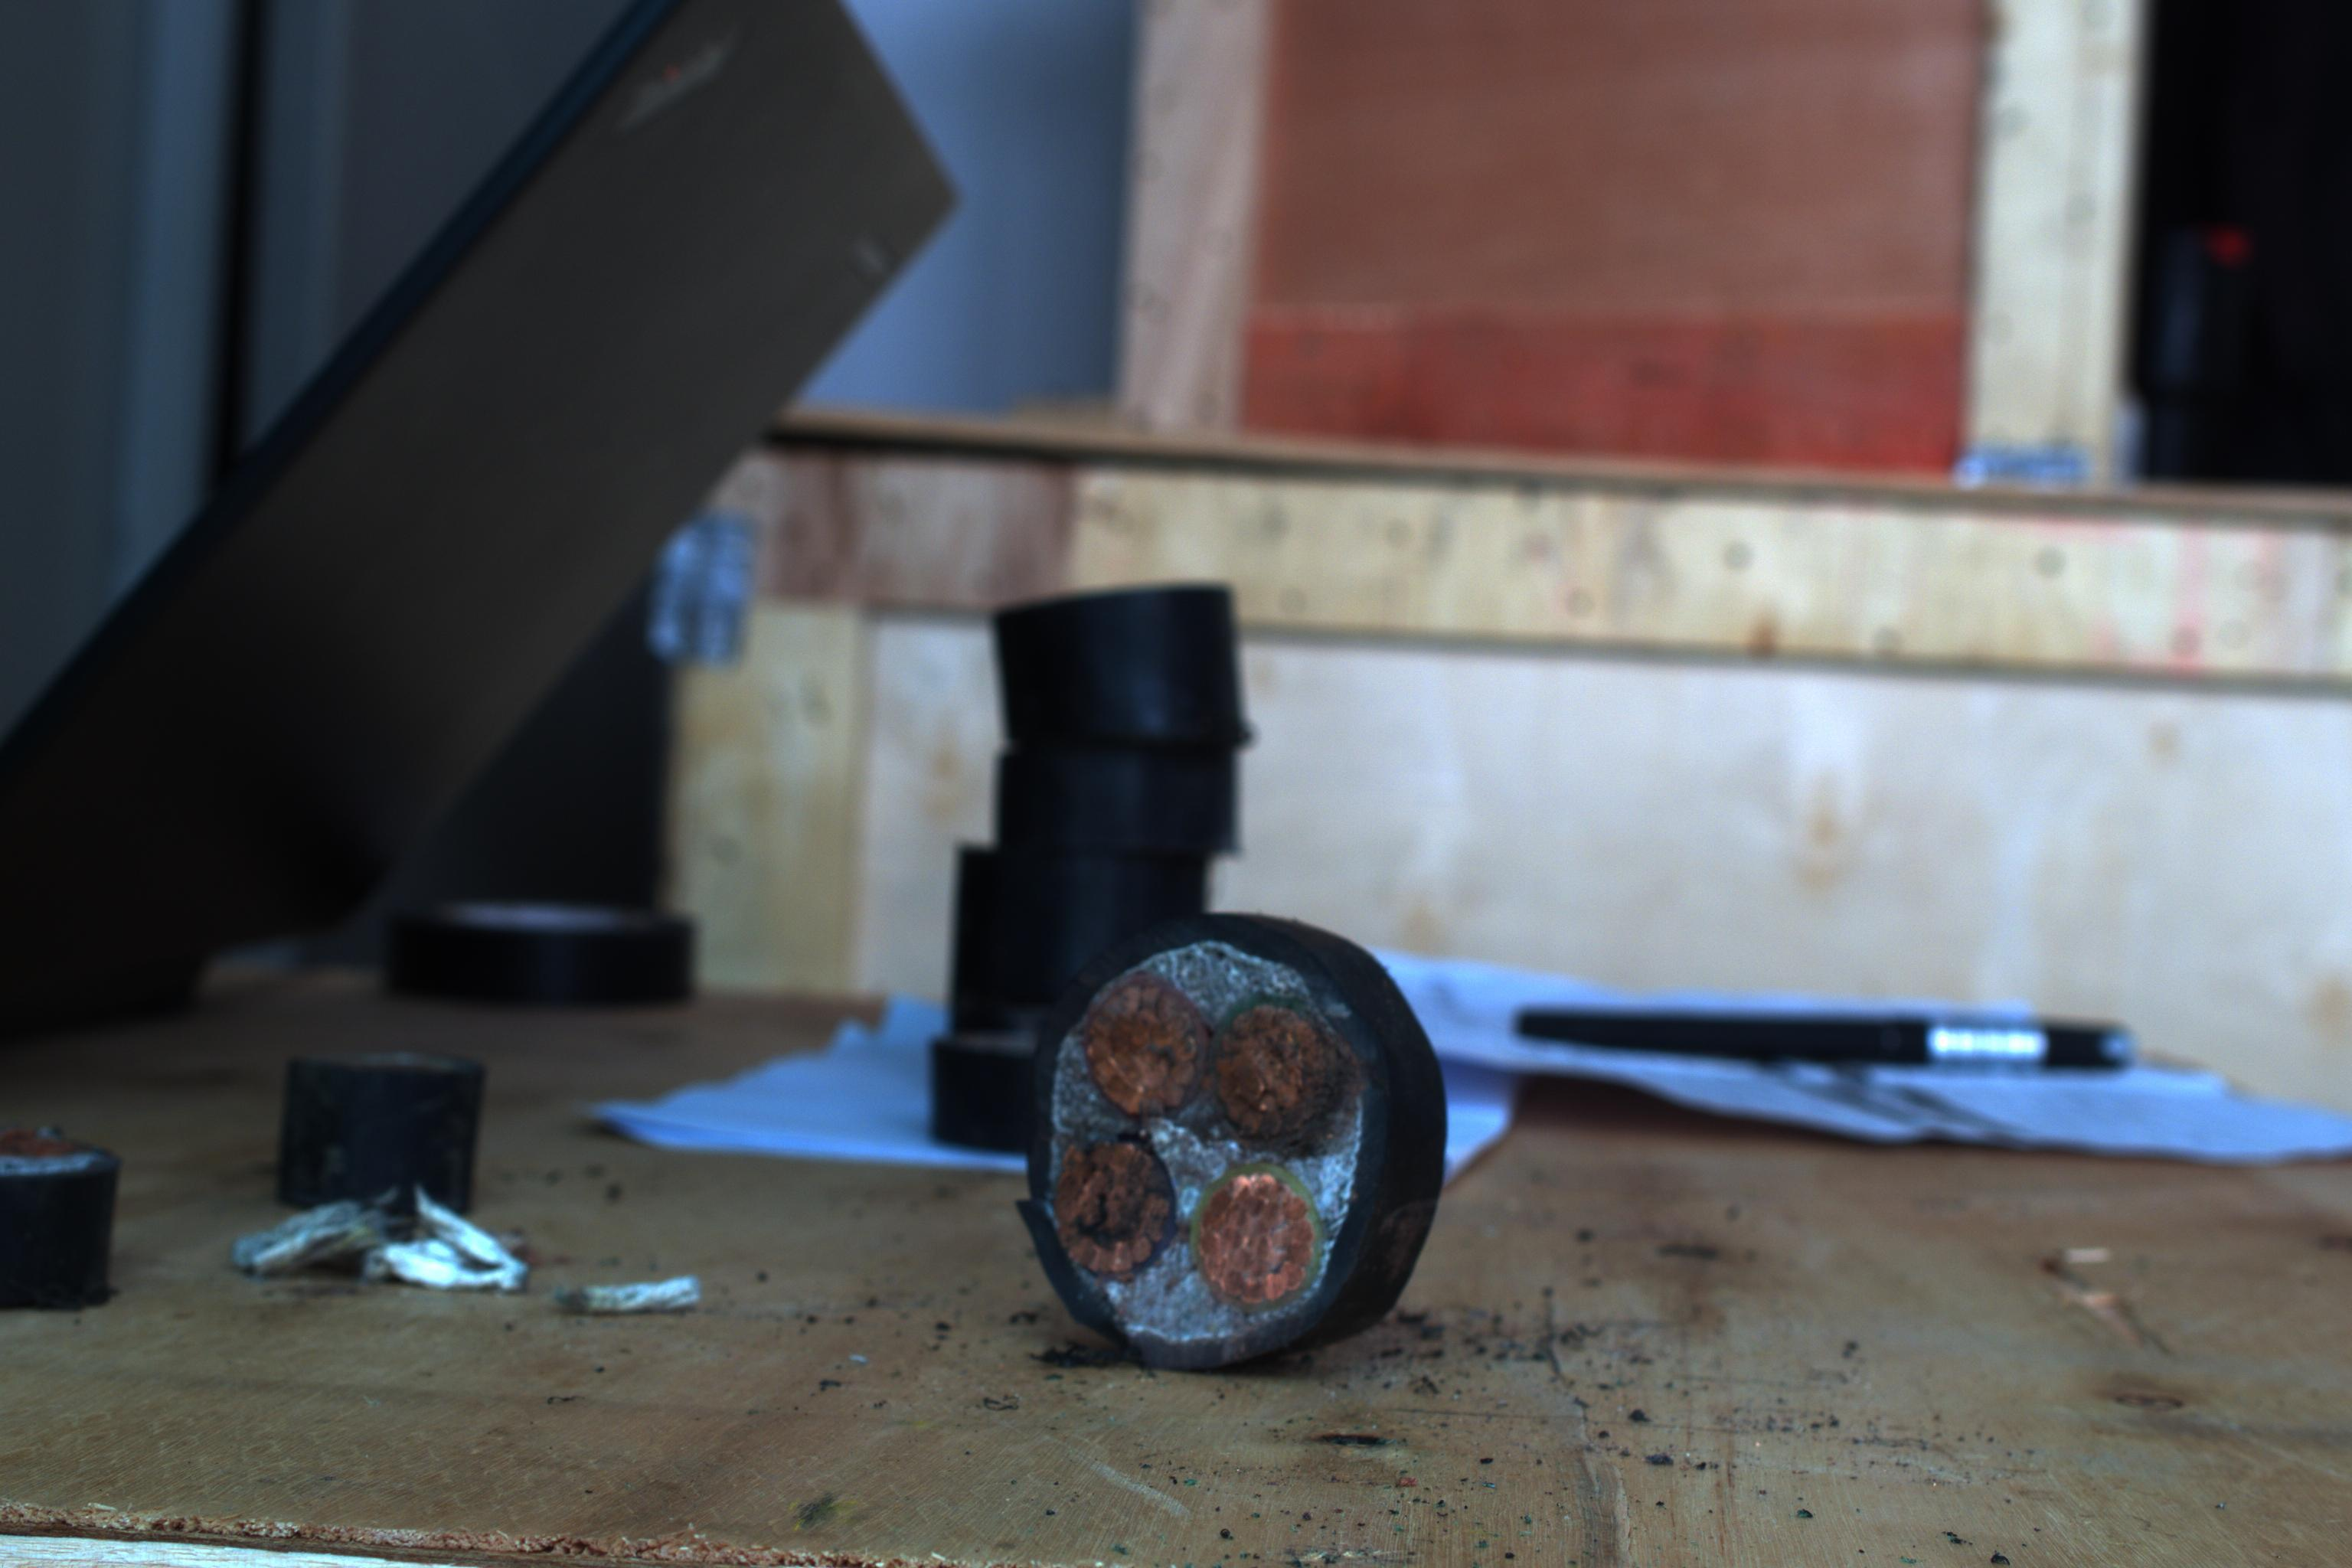YJV_0.6_1kV_4x120: (1027, 922, 1389, 1374)
